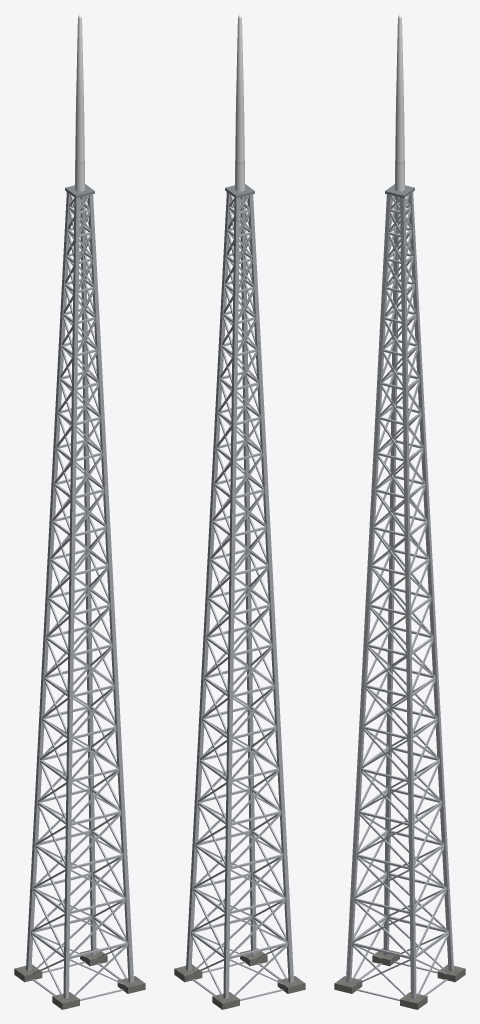
The model's file is lightning_tower.glb.
The picture shows the model from 3 angles, left to right: view 1: azimuth 30°, elevation 25°; view 2: azimuth 210°, elevation 25°; view 3: azimuth 330°, elevation 25°; orthographic projection.
Parts seen in each view (by area): view 1: lightning_tower; view 2: lightning_tower; view 3: lightning_tower.
Part boxes in pixels (x1=…): lightning_tower: x1=14, y1=14, x2=145, y2=1009; lightning_tower: x1=174, y1=14, x2=305, y2=1009; lightning_tower: x1=334, y1=14, x2=465, y2=1009.
Size of the model in its own units: 16.5 by 184 by 16.5.
4 materials, 1 textured.
